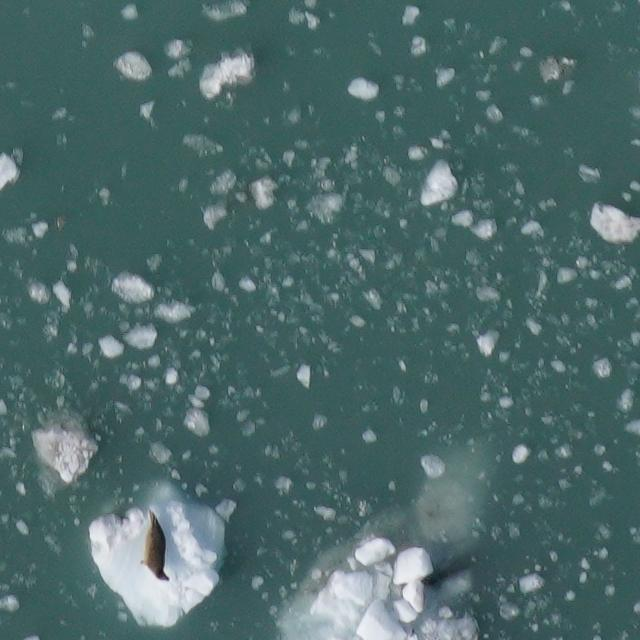seal: (135, 504, 176, 586)
